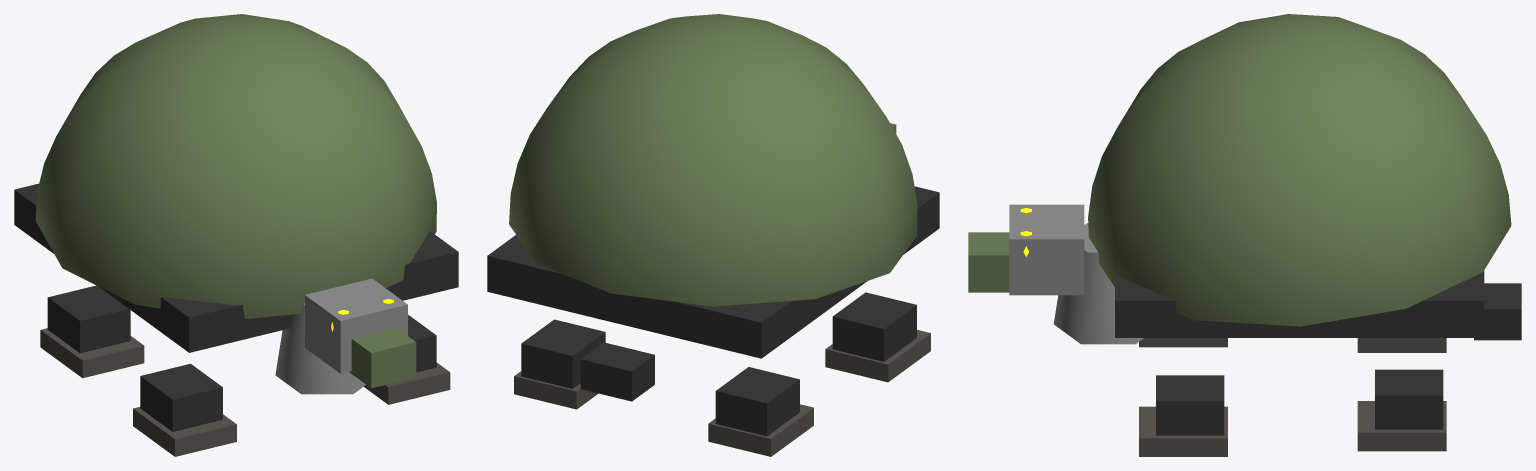
Rendered from IpsGiantTortoiseB.glb.
3 renders of one model, left to right at view 1: azimuth 30°, elevation 25°; view 2: azimuth 150°, elevation 25°; view 3: azimuth 270°, elevation 25°, orthographic. The views are drawn at different scales.
Visible parts, largest first — view 1: IpsGiantTortoiseBody; view 2: IpsGiantTortoiseBody; view 3: IpsGiantTortoiseBody.
Part boxes in pixels (left/top/right/bottom): IpsGiantTortoiseBody: left=14, top=14, right=458, bottom=456; IpsGiantTortoiseBody: left=487, top=14, right=939, bottom=456; IpsGiantTortoiseBody: left=968, top=14, right=1521, bottom=456.
Size of the model in its own units: 1.24 by 1.14 by 1.62.
